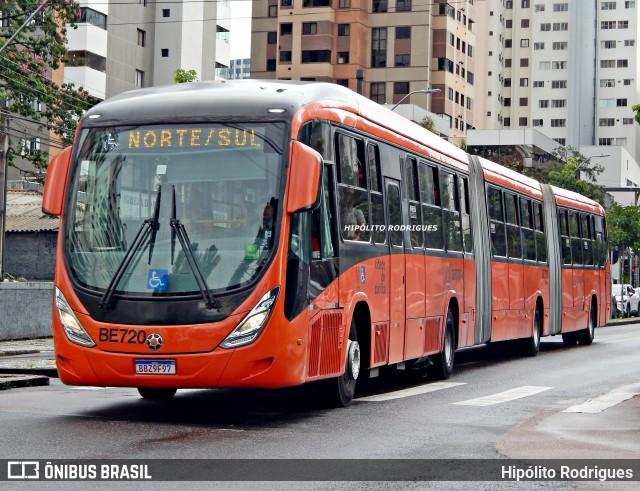NORTE SUL: (124, 126, 263, 148)
